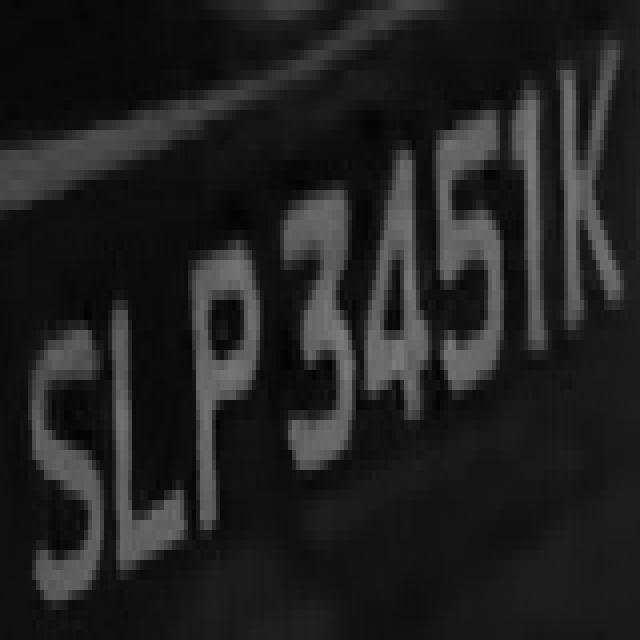1: (488, 60, 544, 390)
3: (264, 140, 352, 490)
4: (344, 110, 436, 490)
5: (424, 80, 500, 450)
K: (556, 0, 628, 380)
L: (88, 270, 184, 600)
P: (180, 200, 260, 570)
S: (0, 4, 1, 10)
